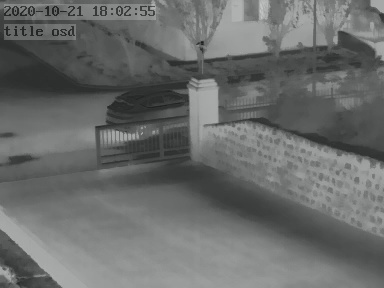vehicle: (104, 79, 193, 137)
